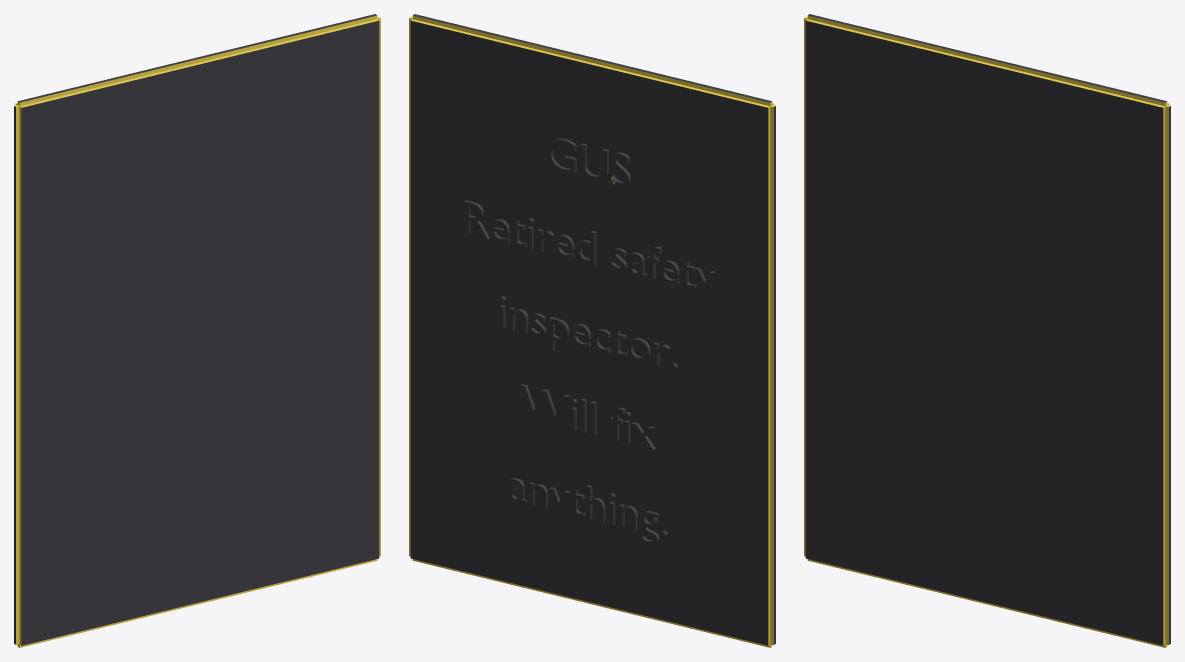
Rendered from gus_flyer.glb.
3 views of the same model, side by side, from view 1: azimuth 30°, elevation 25°; view 2: azimuth 150°, elevation 25°; view 3: azimuth 330°, elevation 25° (orthographic).
Parts seen in each view (by area): view 1: gus_flyer; view 2: gus_flyer; view 3: gus_flyer.
Part boxes in pixels (<box>): gus_flyer: <box>14,14,380,647</box>; gus_flyer: <box>409,14,775,647</box>; gus_flyer: <box>804,14,1170,647</box>.
Bounding box in the file's own units: 0.21 × 0.3 × 0.0082.
